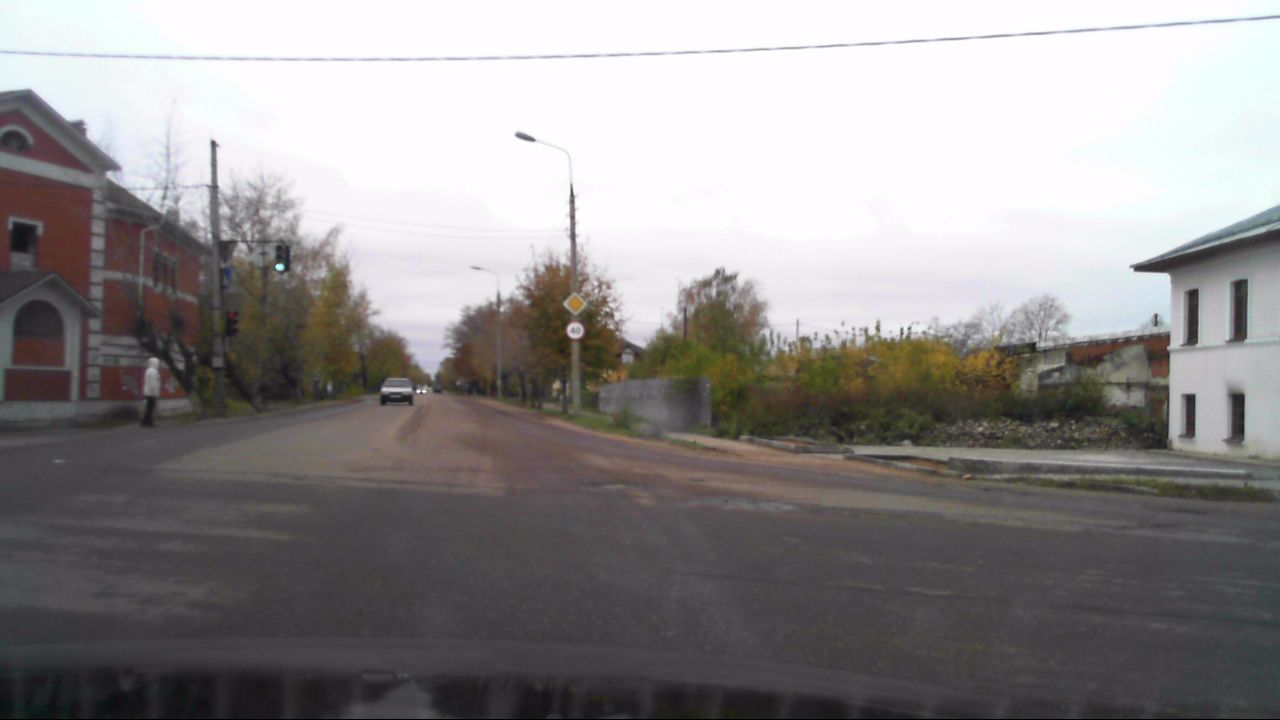speed_warning_40: (565, 320, 585, 339)
